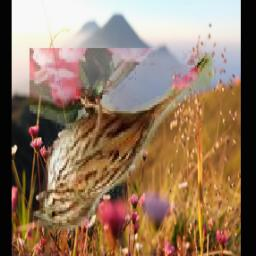Sparrow: (30, 48, 216, 233)
